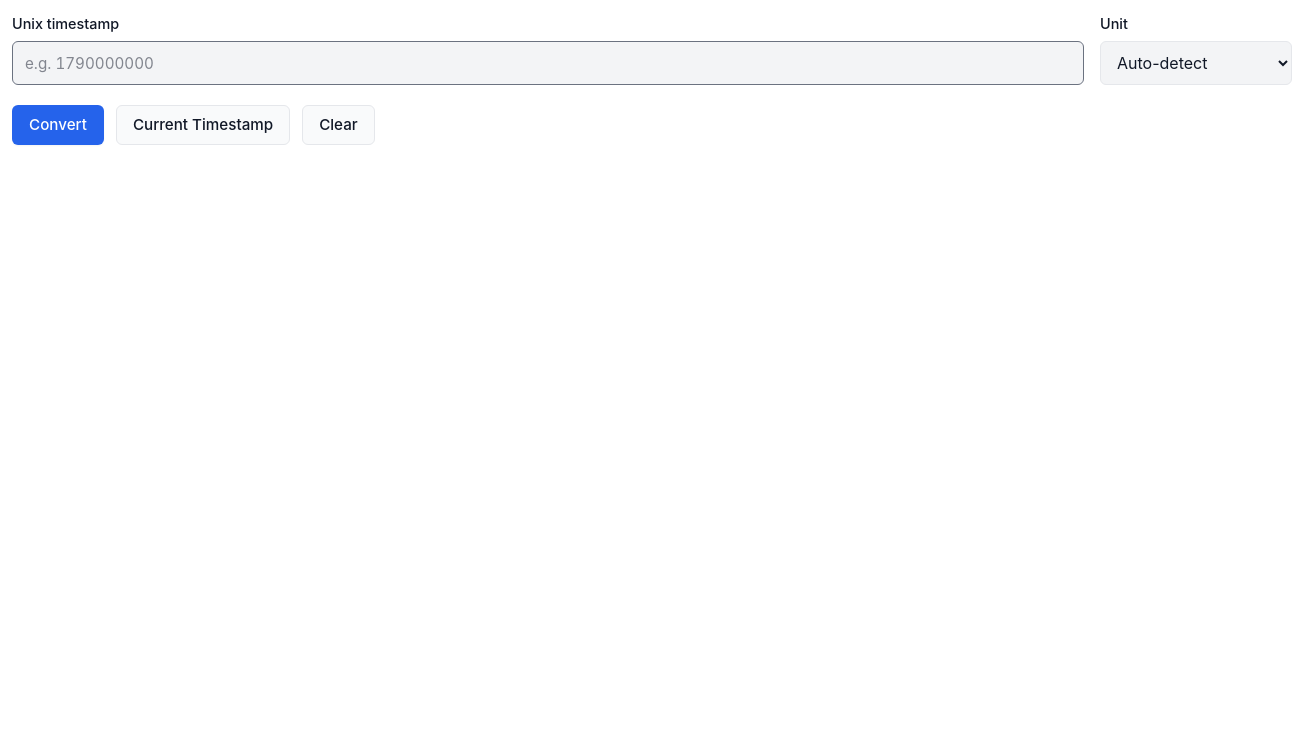
Test: Unix Timestamp Converter › detects milliseconds automatically
Type "1790000000123" into the field labelled "Unix timestamp" at (548, 63), box top-left (12, 41), bottom-right (1084, 85)
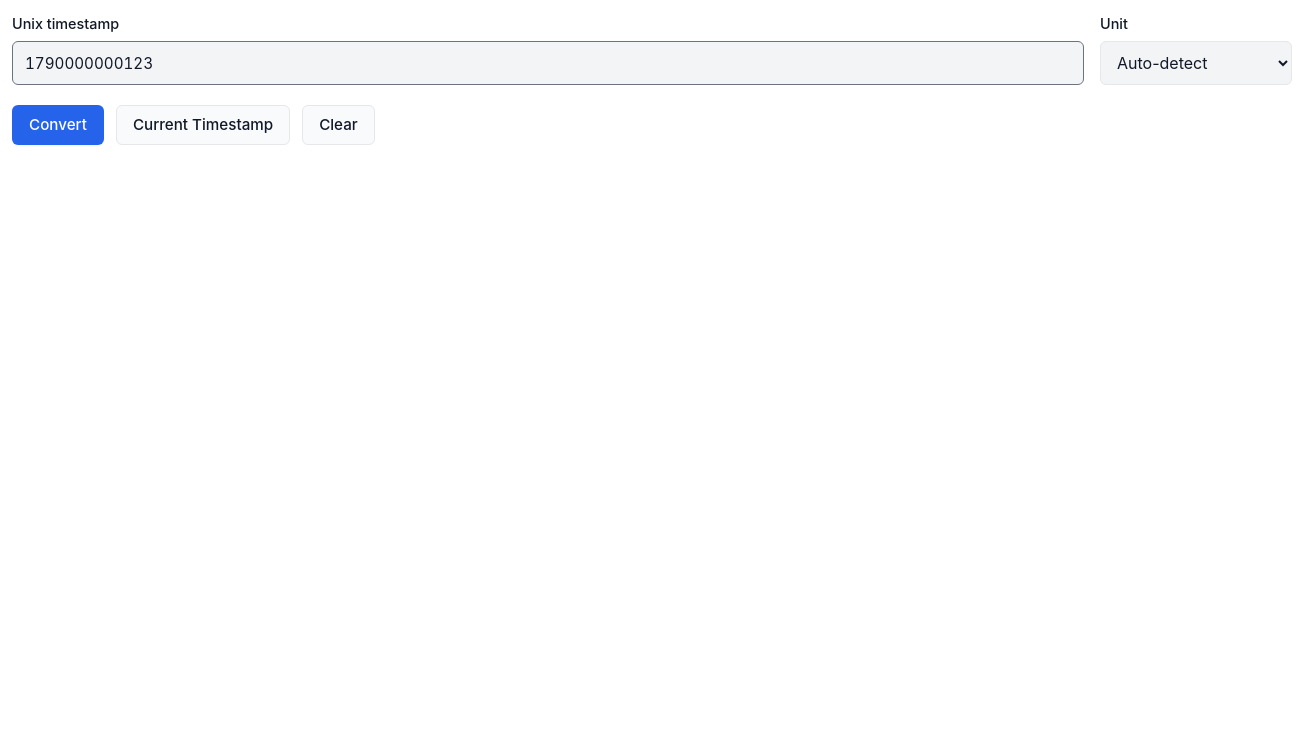
Click the button "Convert" at (58, 125), box top-left (12, 105), bottom-right (104, 145)
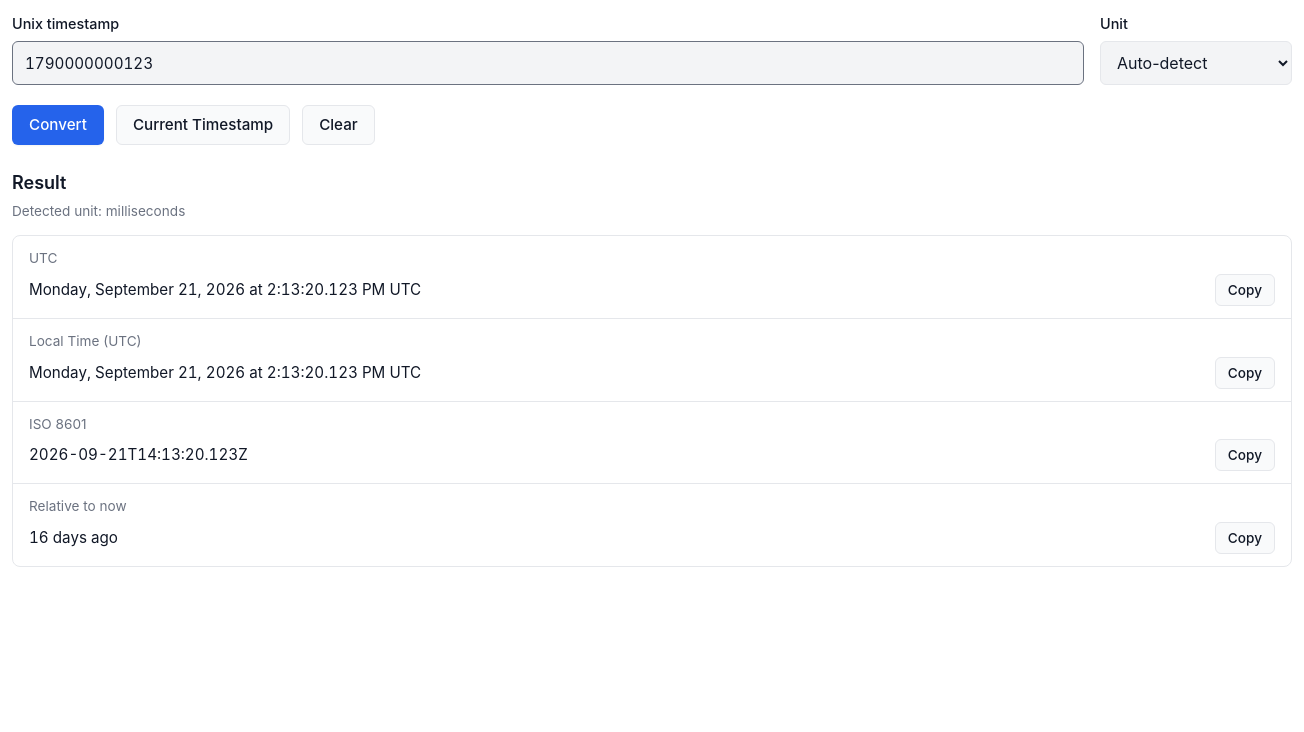
Expected: the text "2026-09-21T14:13:20.123Z" is shown, top-left (29, 445), bottom-right (248, 464)
Expected: the text "Detected unit: milliseconds" is shown, top-left (12, 203), bottom-right (185, 219)
